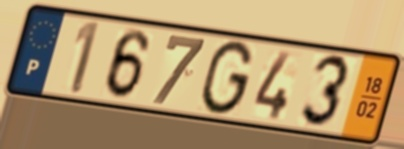1: (68, 18, 102, 97)
3: (297, 53, 355, 132)
4: (251, 48, 292, 123)
6: (104, 27, 154, 103)
7: (149, 32, 209, 107)
G: (197, 38, 256, 118)
